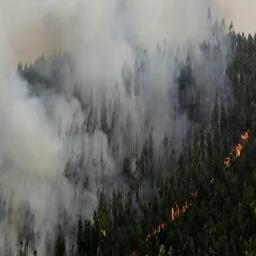Heavy smoke: (0, 0, 250, 246)
